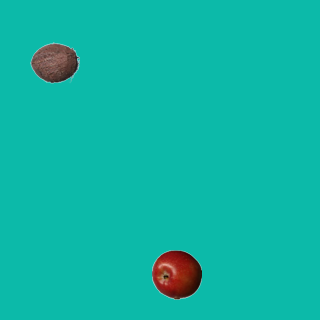Apple Braeburn: (151, 249, 201, 299)
Cocos: (29, 37, 79, 87)
